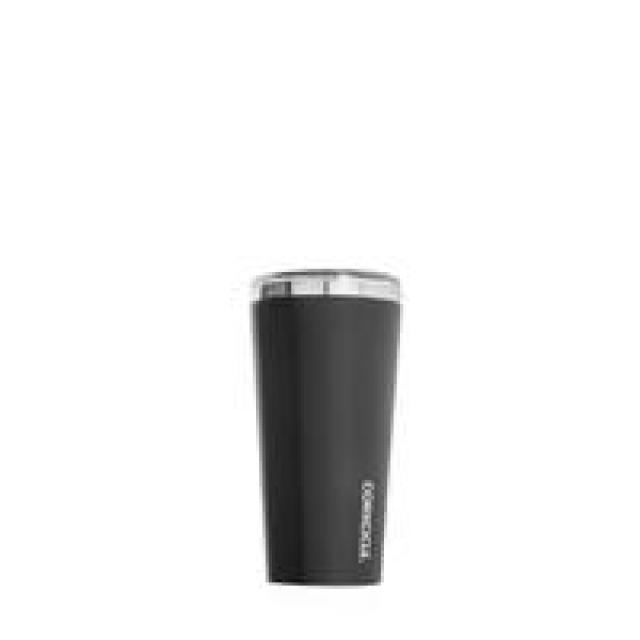bottle: (248, 267, 402, 587)
